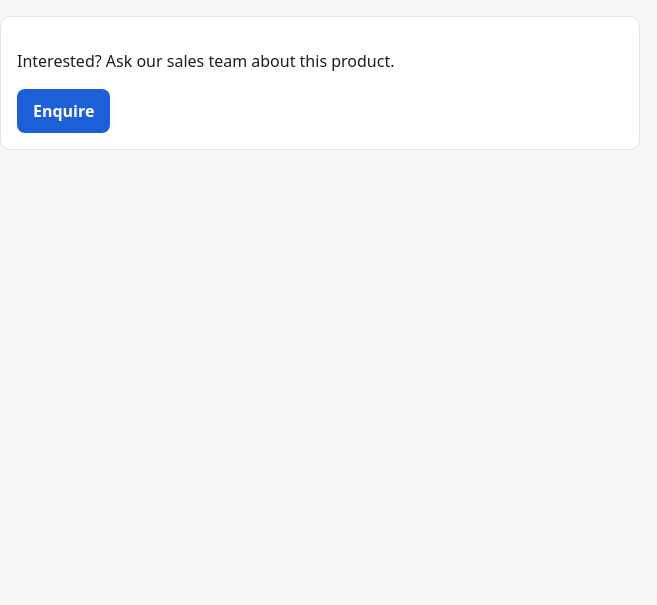
Scenario: EnquiryForm › starts collapsed: clicking Enquire reveals the form and focuses the first field
Check: the field labelled "Name" is not shown
Click the button "Enquire". click: {"x": 64, "y": 111}
box: [17,89,110,133]
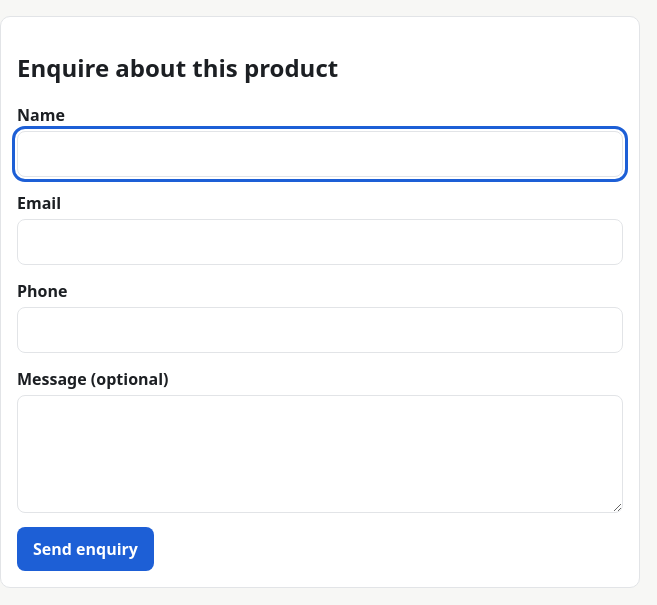
Check: the heading "Enquire about this product" is shown, box [17,51,338,84]
